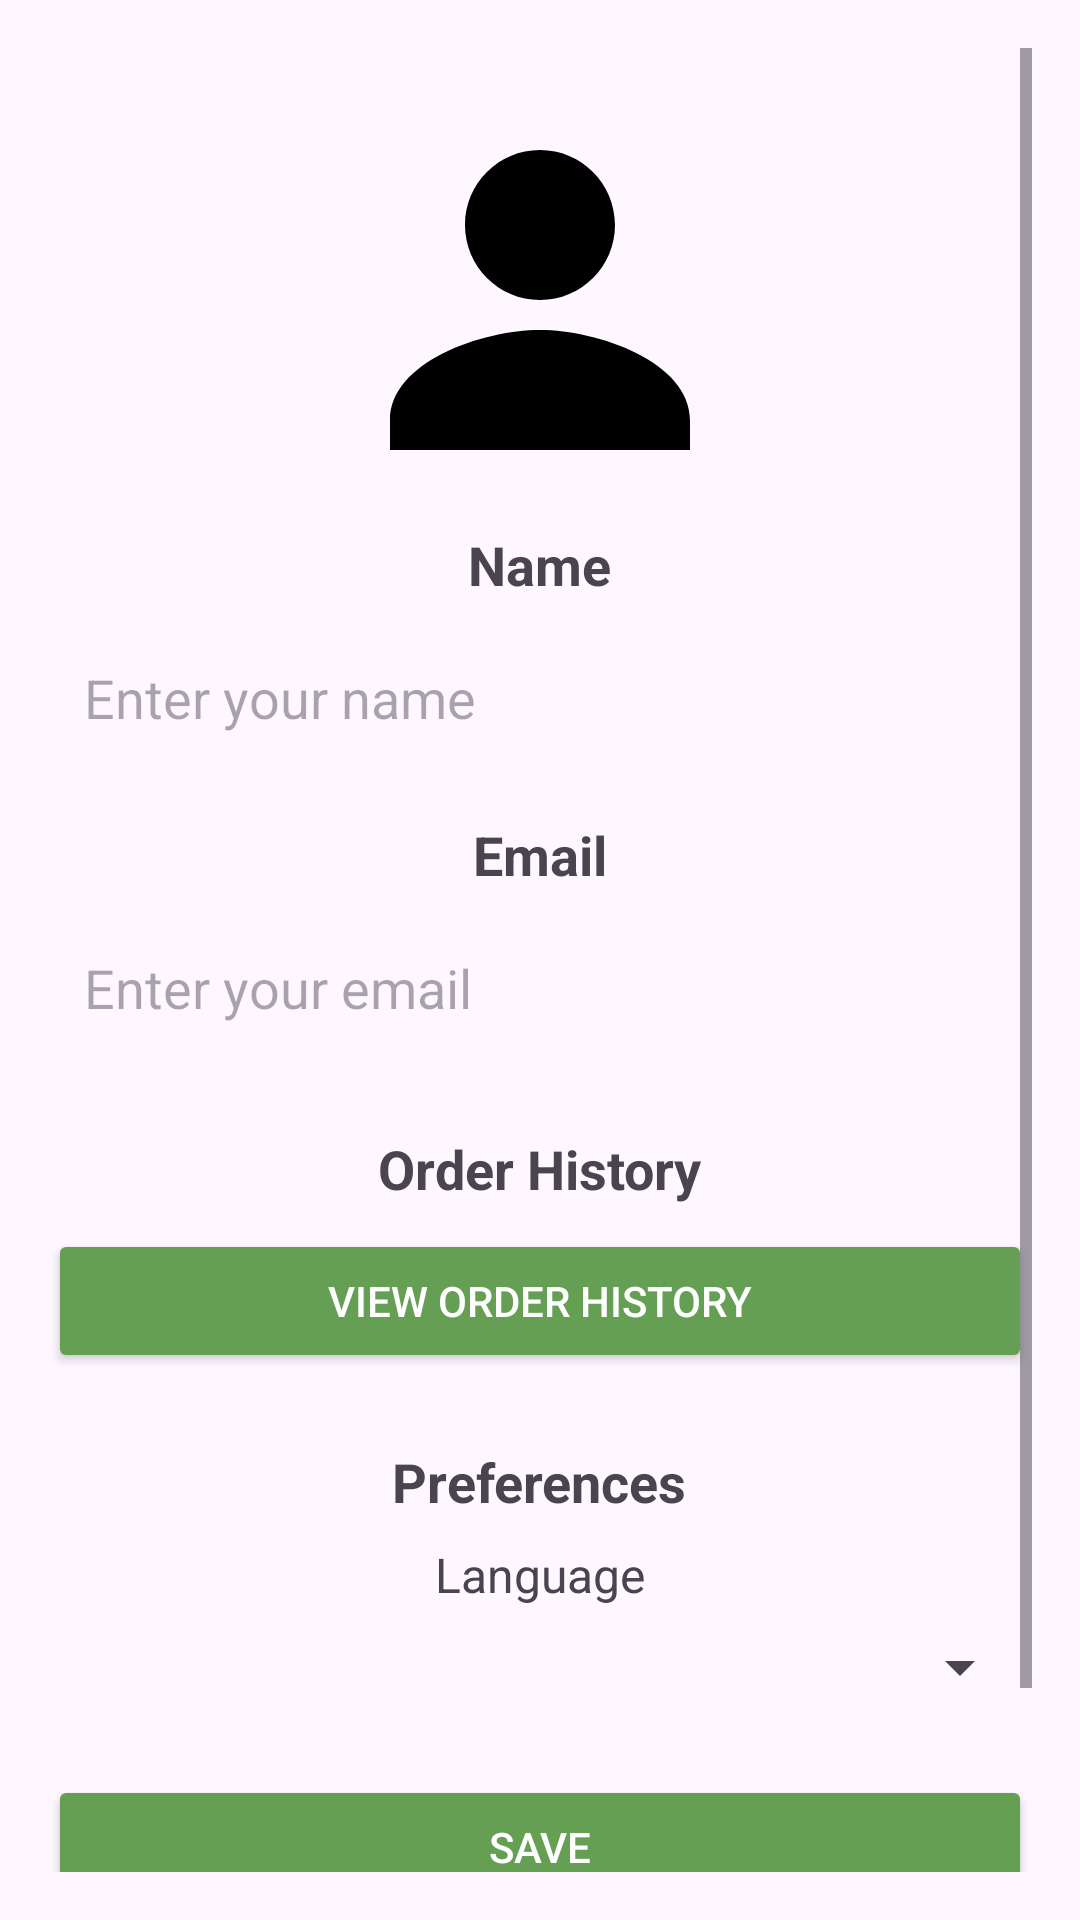

Point at icon controls on the screen. Image size 1080w x 1920h, points as (x,y).
Profile Picture: (540,300)
